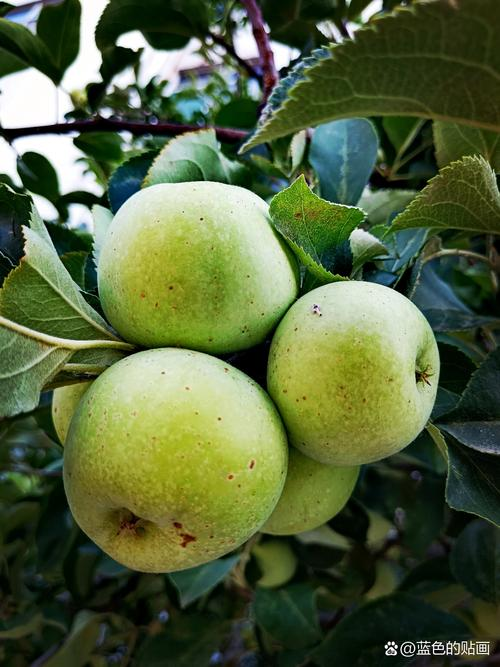unripe: (46, 332, 298, 580), (83, 170, 306, 359), (267, 276, 442, 475)
